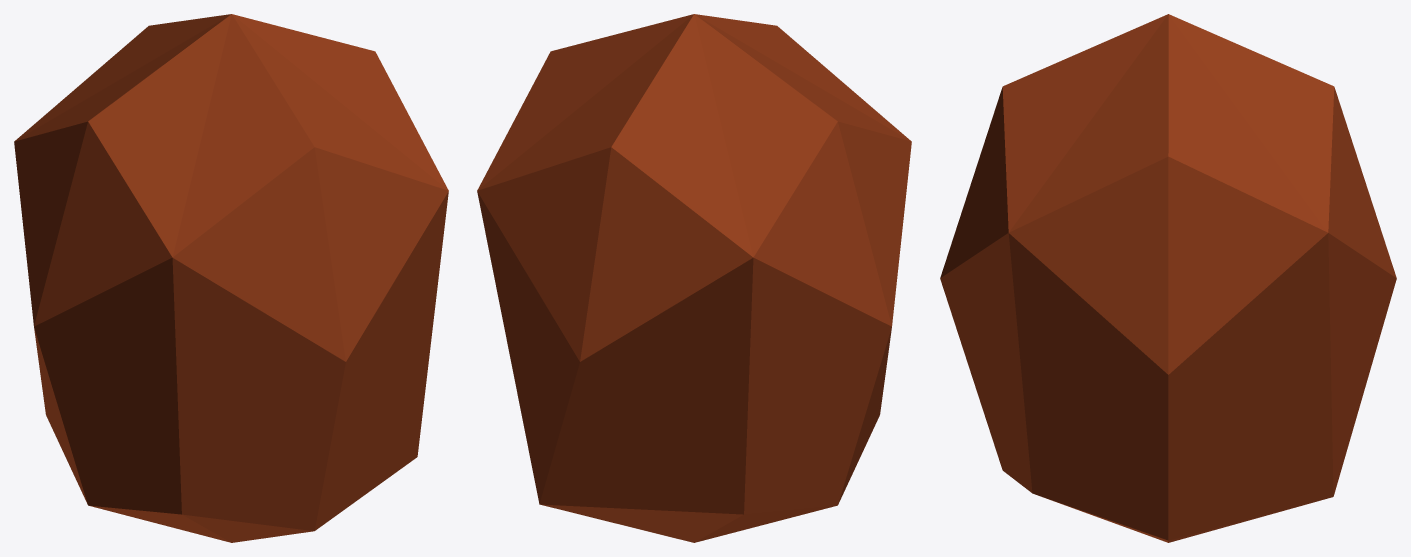
File: coco.fbx
The picture shows the model from 3 angles, left to right: view 1: azimuth 30°, elevation 25°; view 2: azimuth 150°, elevation 25°; view 3: azimuth 270°, elevation 25°; orthographic projection.
Parts seen in each view (by area): view 1: Cube; view 2: Cube; view 3: Cube.
Part boxes in pixels (x1,y1,x2,y2): Cube: [14, 14, 448, 542]; Cube: [477, 14, 911, 542]; Cube: [940, 14, 1396, 542].
Bounding box in the file's own units: 54.4 × 69.51 × 54.4.
